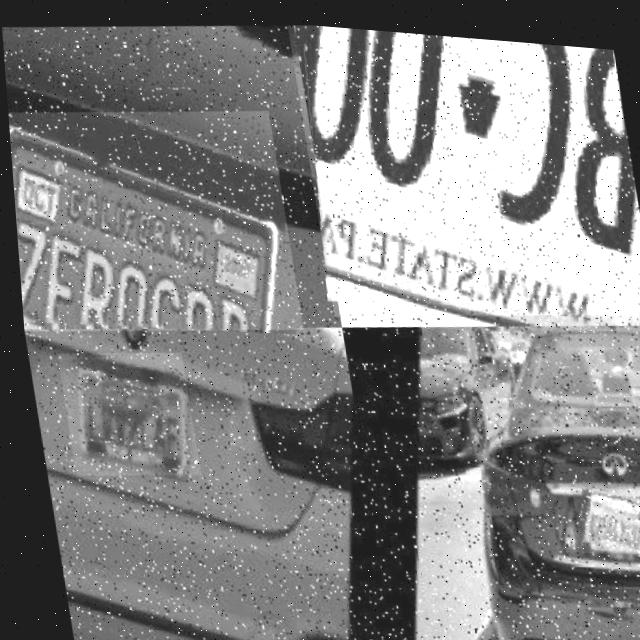LicensePlate: (287, 18, 640, 331), (5, 89, 299, 349), (50, 341, 194, 483), (573, 479, 639, 542)
